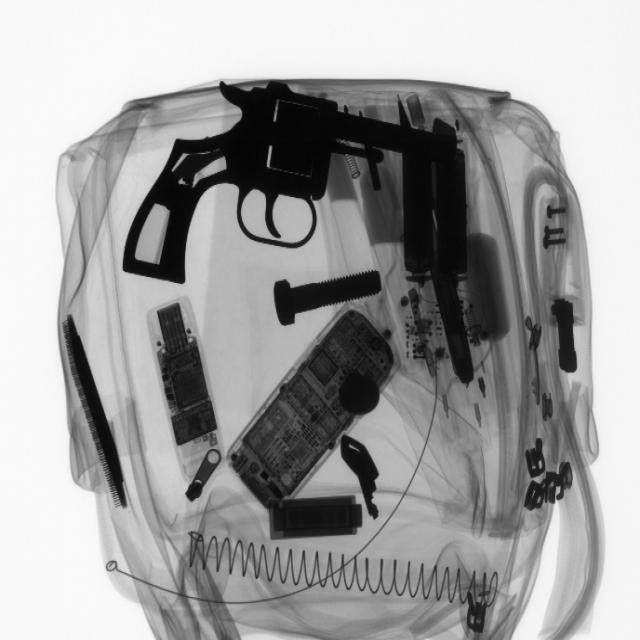GUN: (109, 80, 444, 296)
